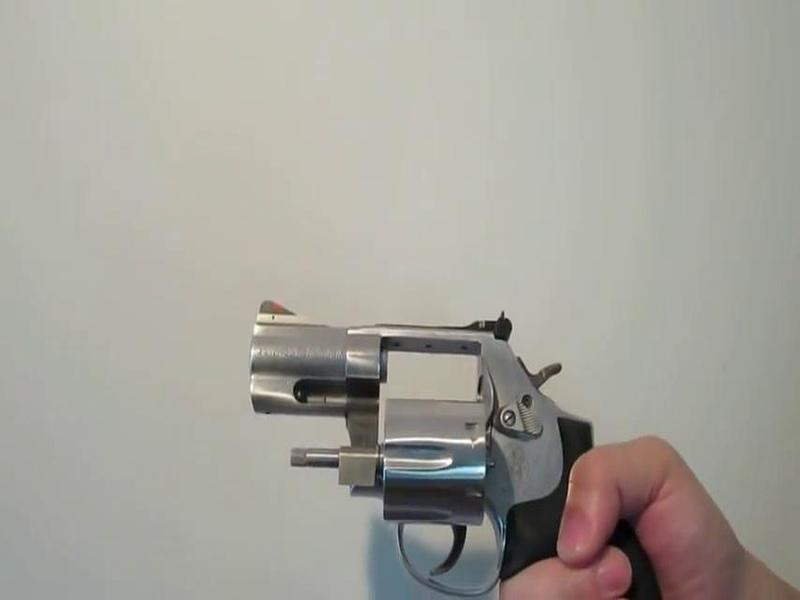Revolver: (236, 258, 656, 600)
